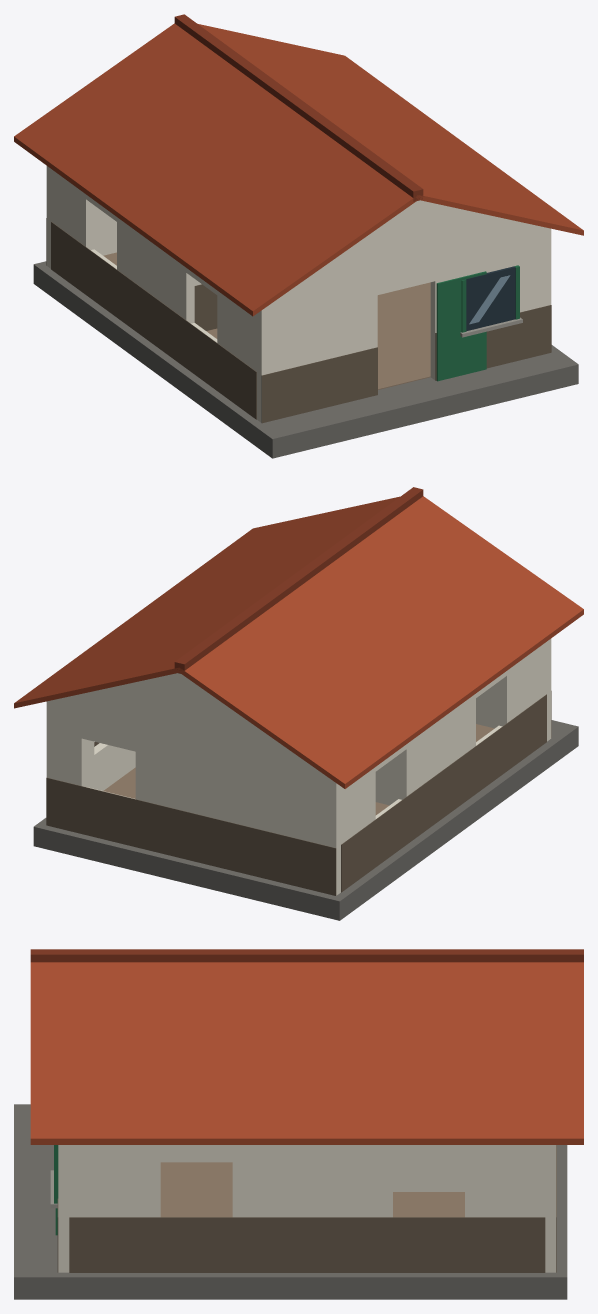
Rendered from casa_operador_a.glb.
3 views of the same model, one above another, from view 1: azimuth 30°, elevation 25°; view 2: azimuth 150°, elevation 25°; view 3: azimuth 270°, elevation 25° (orthographic). The views are drawn at different scales.
Visible parts, largest first — view 1: casa_operador_a; view 2: casa_operador_a; view 3: casa_operador_a.
Boxes of the visible parts, x1=… form: casa_operador_a: x1=14, y1=14, x2=583, y2=458; casa_operador_a: x1=14, y1=487, x2=583, y2=920; casa_operador_a: x1=14, y1=949, x2=583, y2=1299.
Bounding box in the file's own units: 8 × 5.21 × 10.3.
